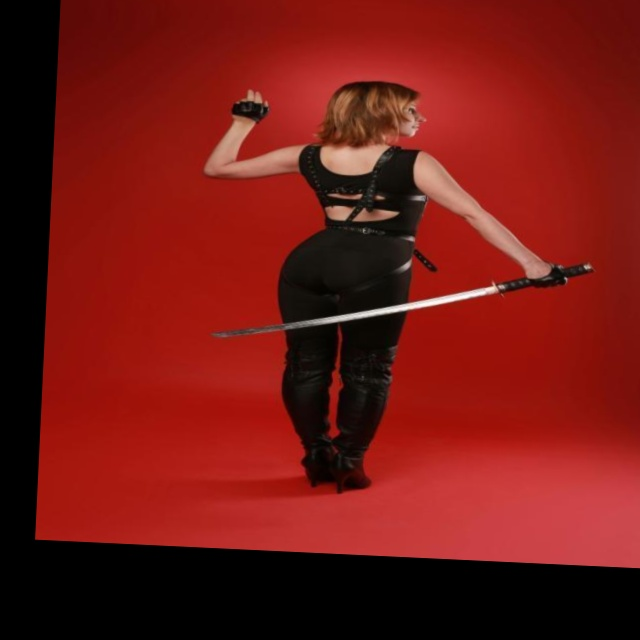Sharp-Object: (200, 241, 596, 360)
